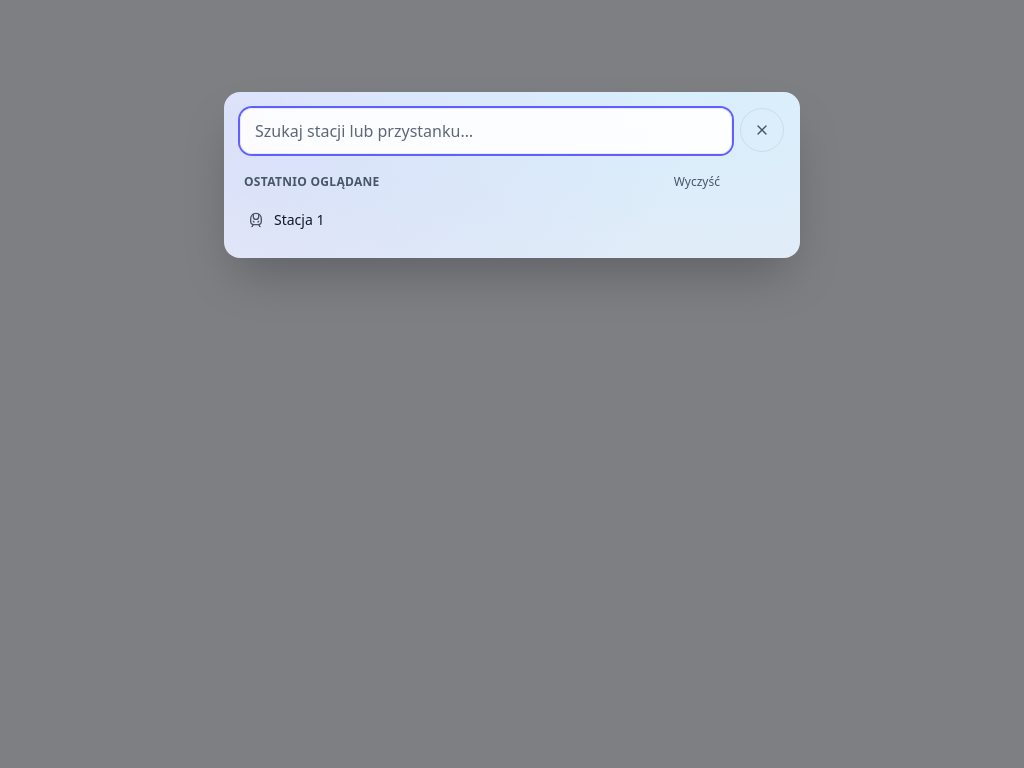
Test: SearchDialog › moves the focus back to the search input after „Wyczyść" (the focused button unmounts)
What coordinates should you click on to do the following:
click the button "Wyczyść"
I would click on:
 (697, 182)
Its box is left=666, top=170, right=728, bottom=194.
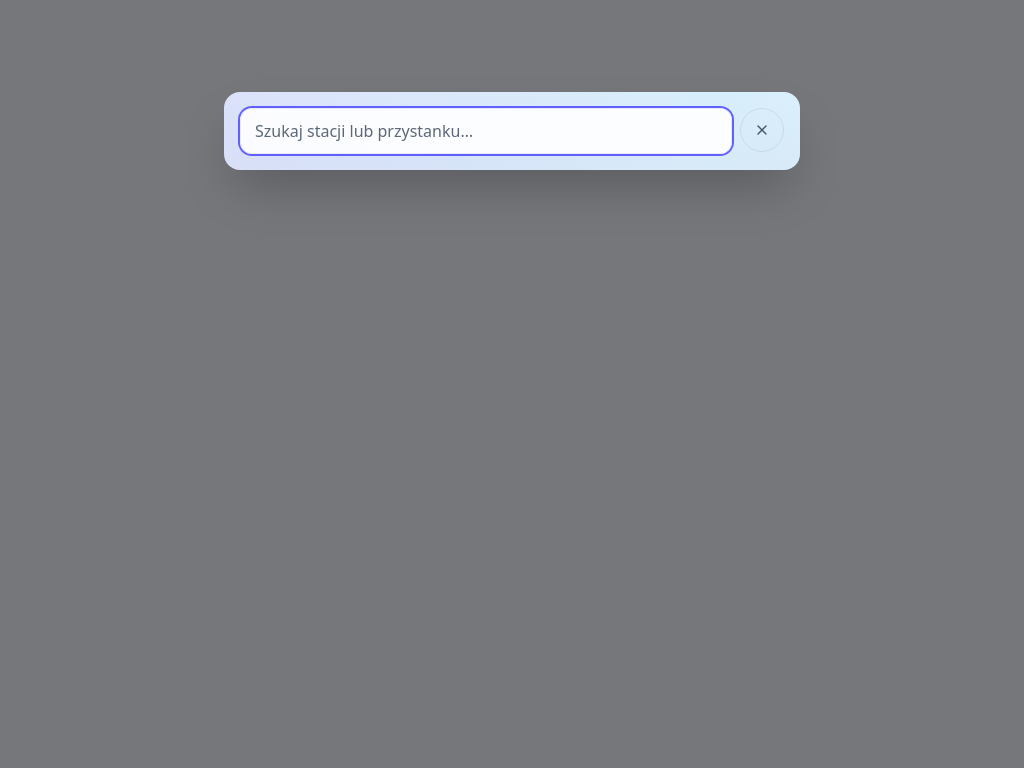
expect the button "Wyczyść" is gone: met
